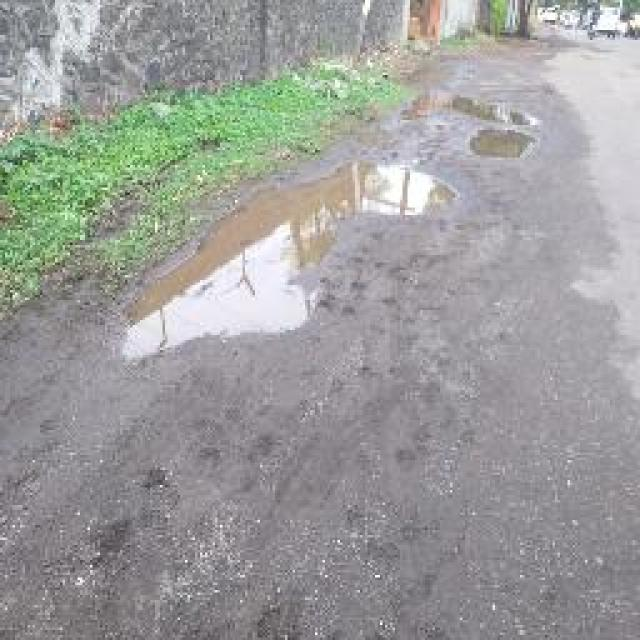waterlogging: (104, 154, 474, 382), (391, 89, 562, 161)
